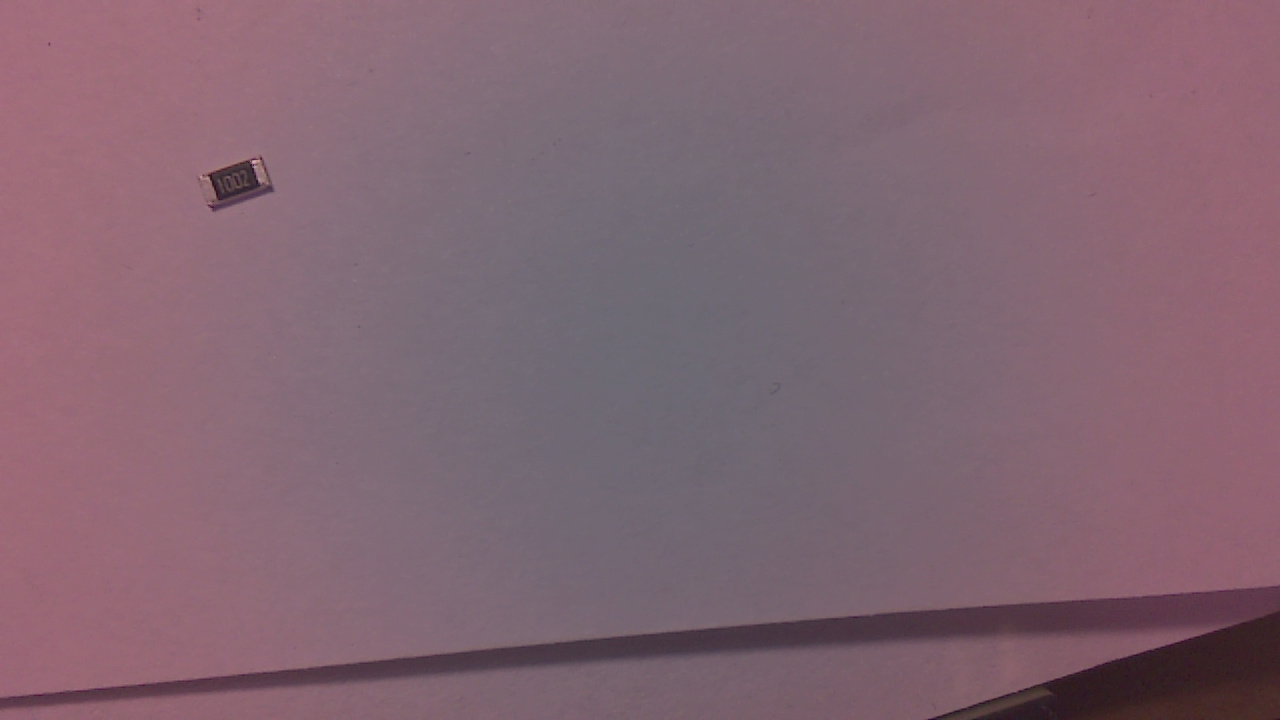Resistor: (204, 157, 280, 218)
